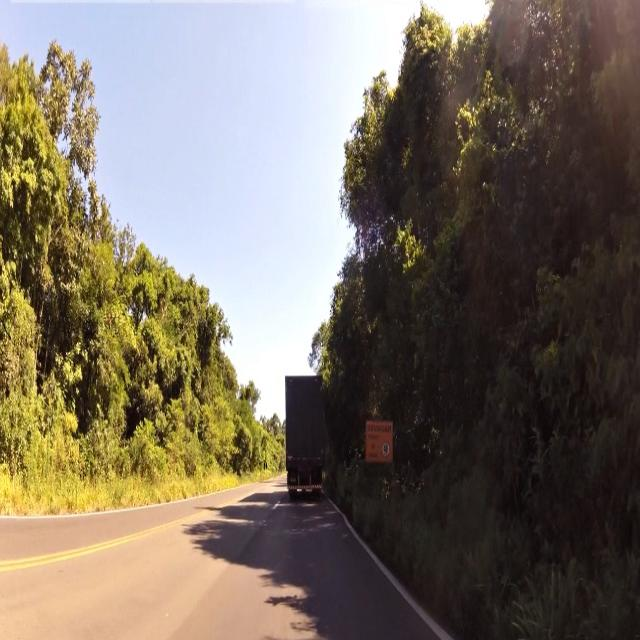ESP-20: (364, 418, 392, 465)
